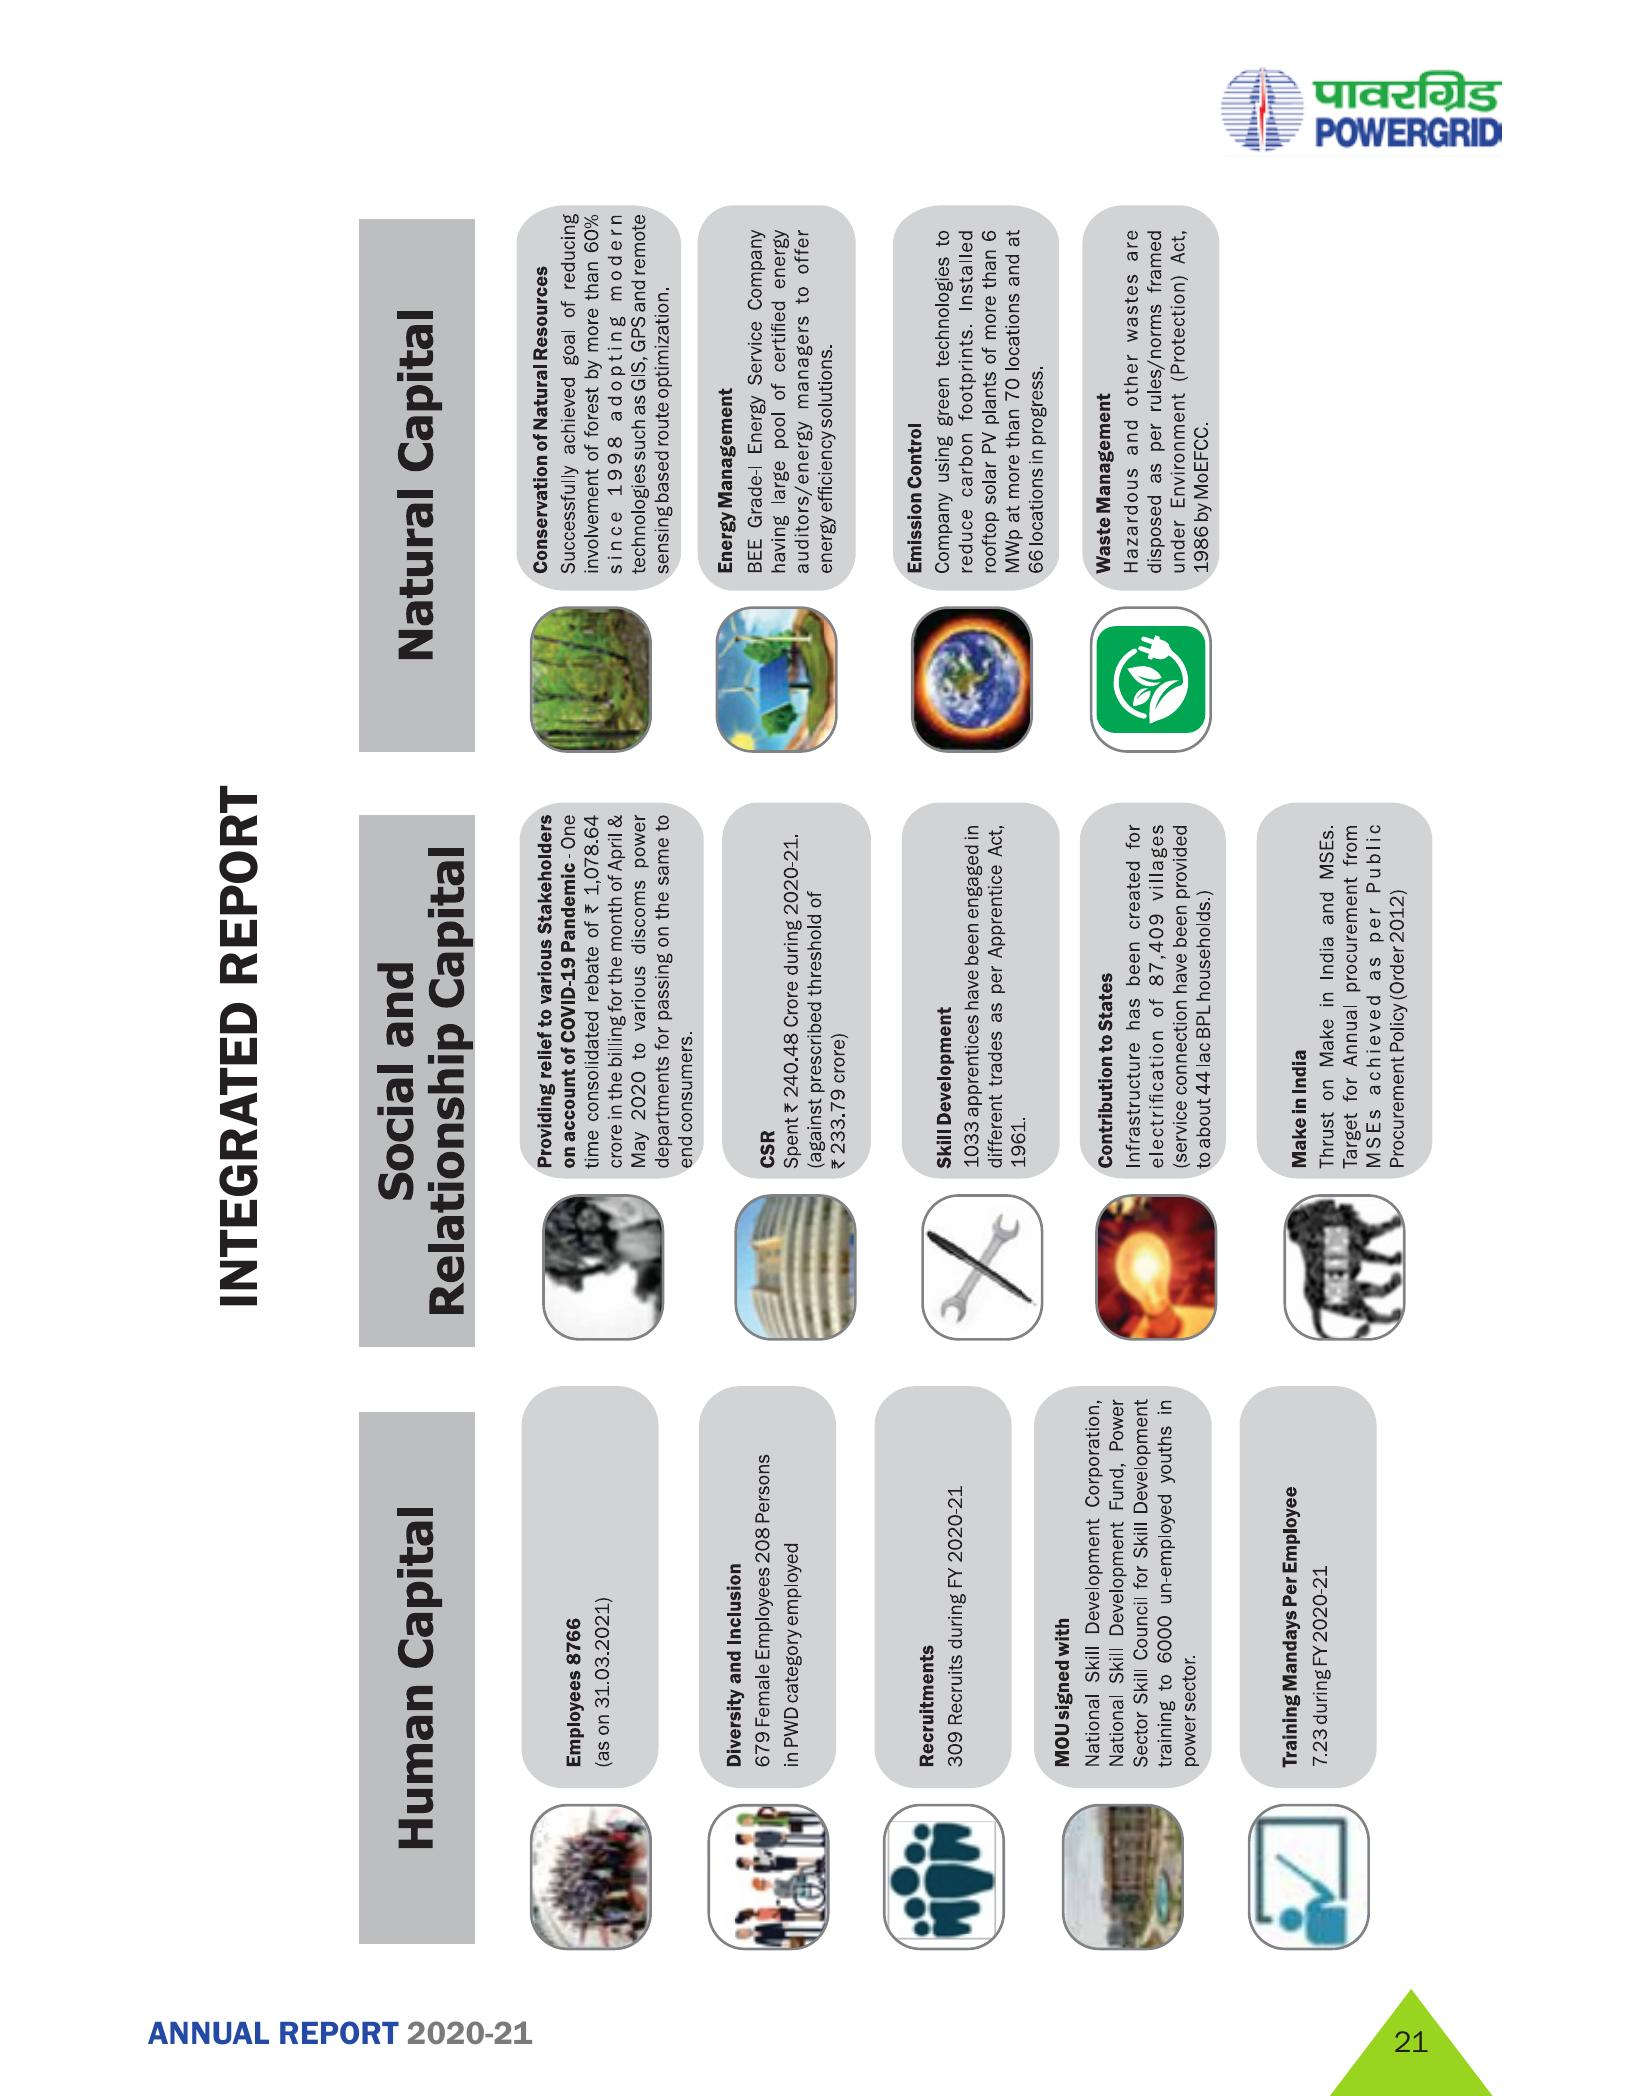Footer: (0, 1991, 1650, 2096)
Header: (0, 0, 1650, 175)
Image: (321, 192, 1442, 1965)
